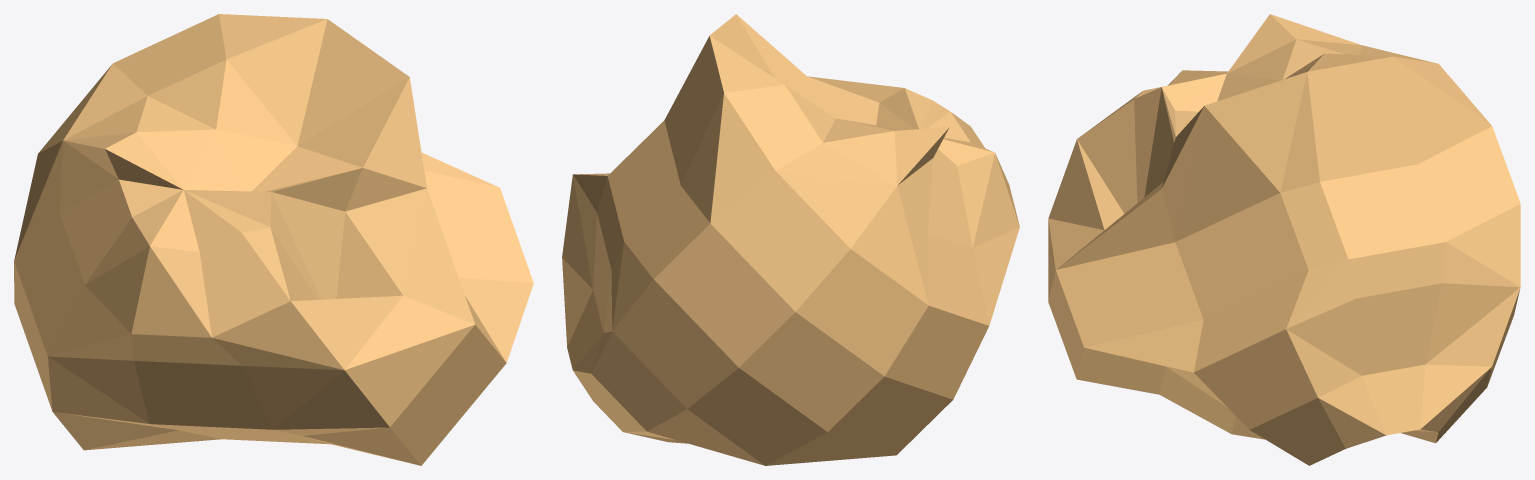
File: desert-stone-by-leigh-garland-2rrAo2-03p1.glb
The picture shows the model from 3 angles, left to right: view 1: azimuth 30°, elevation 25°; view 2: azimuth 150°, elevation 25°; view 3: azimuth 270°, elevation 25°; orthographic projection. The views are drawn at different scales.
Parts seen in each view (by area): view 1: group1436554847; view 2: group1436554847; view 3: group1436554847.
Part boxes in pixels (x1=…): group1436554847: x1=14, y1=14, x2=533, y2=465; group1436554847: x1=562, y1=14, x2=1019, y2=465; group1436554847: x1=1048, y1=14, x2=1520, y2=465.
Size of the model in its own units: 0.3674 by 0.3034 by 0.3581.
